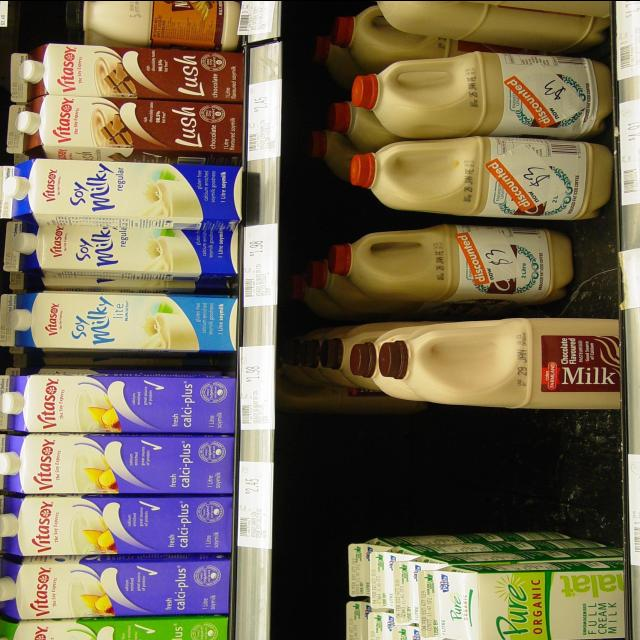empty_space: (327, 419, 616, 530)
